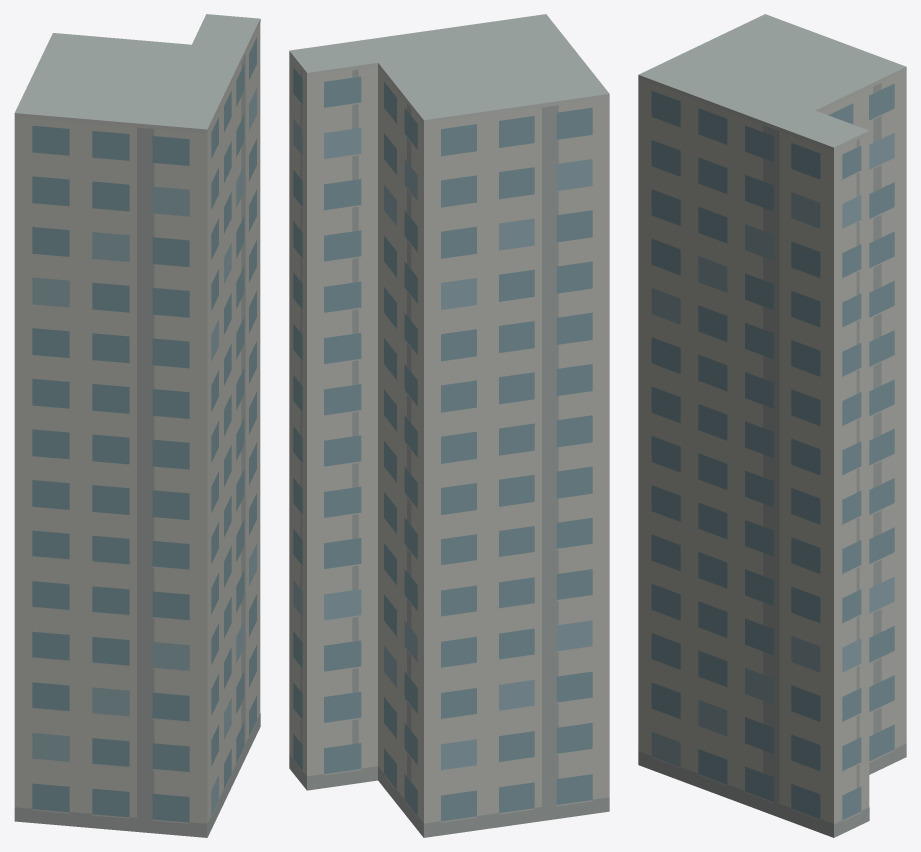
File: residential-123813ca-b015-4ac5-b3c3-44cc13ade312.glb
3 views of the same model, side by side, from view 1: azimuth 30°, elevation 25°; view 2: azimuth 150°, elevation 25°; view 3: azimuth 270°, elevation 25° (orthographic). The views are drawn at different scales.
Visible parts, largest first — view 1: residential-123813ca-b015-4ac5-b3c3-44cc13ade312.tmp; view 2: residential-123813ca-b015-4ac5-b3c3-44cc13ade312.tmp; view 3: residential-123813ca-b015-4ac5-b3c3-44cc13ade312.tmp.
Boxes of the visible parts, left/top/right/bottom form: residential-123813ca-b015-4ac5-b3c3-44cc13ade312.tmp: left=14, top=14, right=260, bottom=837; residential-123813ca-b015-4ac5-b3c3-44cc13ade312.tmp: left=289, top=14, right=609, bottom=837; residential-123813ca-b015-4ac5-b3c3-44cc13ade312.tmp: left=638, top=14, right=906, bottom=837.
Bounding box in the file's own units: 17.74 × 42.7 × 15.05.
